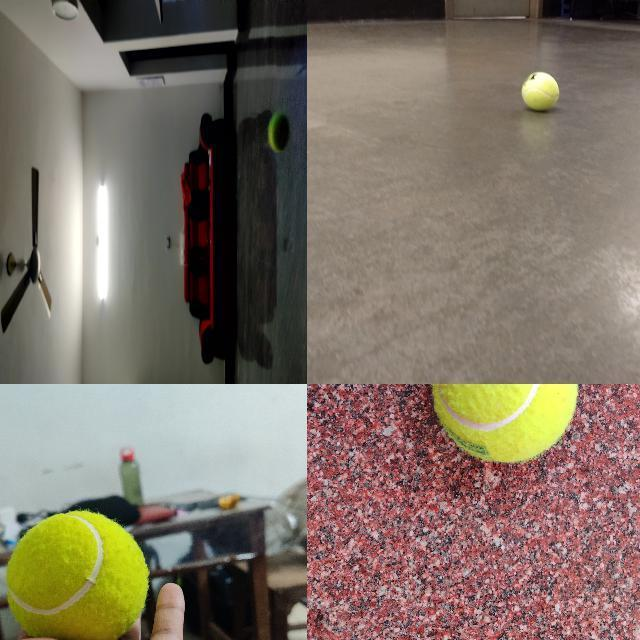tennis-ball: (5, 510, 149, 634), (431, 384, 577, 462), (521, 71, 559, 111), (266, 110, 290, 153)
